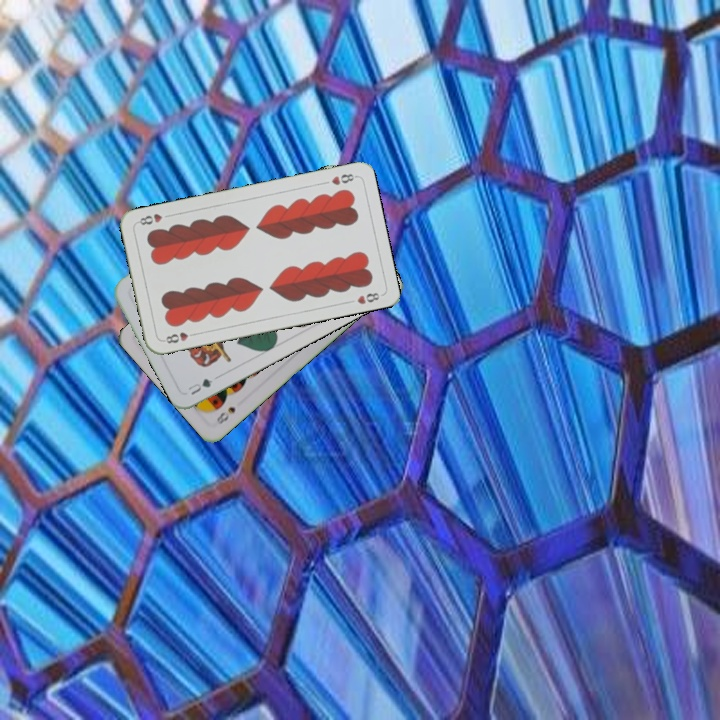GU: (184, 374, 215, 398)
H8: (159, 328, 199, 346), (327, 170, 359, 188)
S8: (212, 403, 238, 427)
